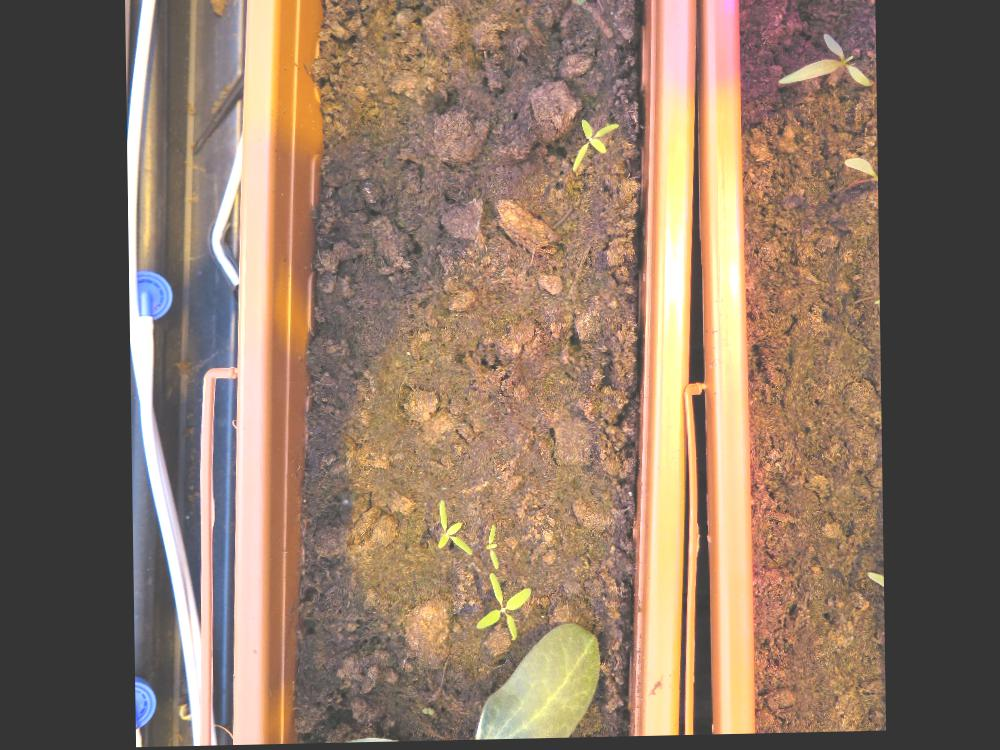weed: (776, 37, 872, 93), (470, 575, 531, 647), (569, 122, 619, 176), (433, 501, 472, 560), (480, 526, 499, 574)
